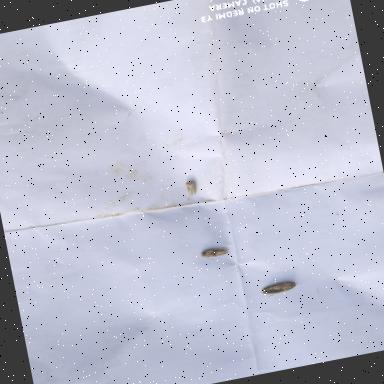pbw: (258, 277, 301, 302), (196, 242, 234, 266), (181, 173, 204, 201)
